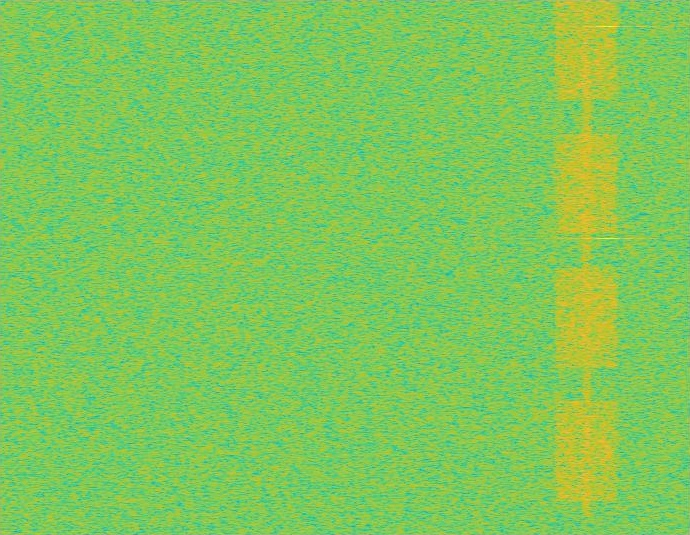5G: (552, 0, 621, 534)
DSSS: (582, 0, 591, 534)
Radar: (601, 0, 614, 534)
